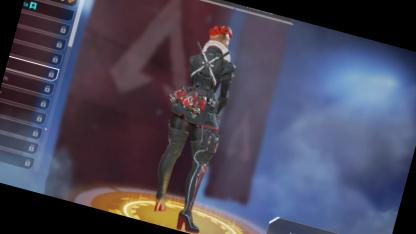Target: (153, 17, 249, 193)
